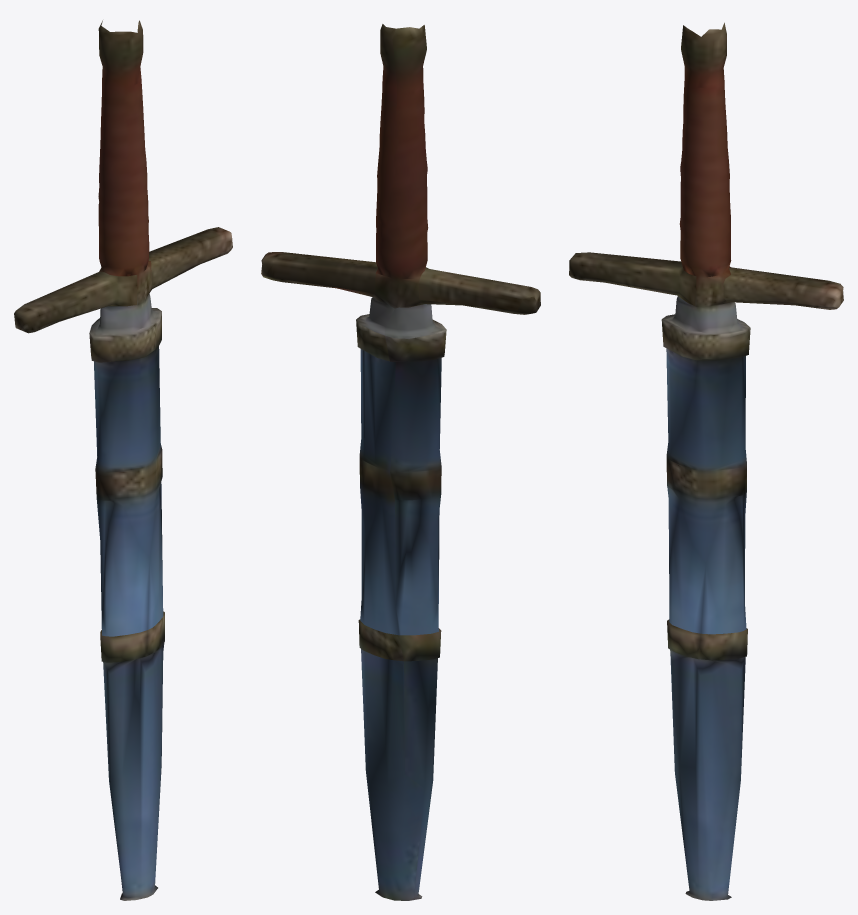
File: Shortsword_Sheathed.glb
3 renders of one model, left to right at view 1: azimuth 30°, elevation 25°; view 2: azimuth 150°, elevation 25°; view 3: azimuth 330°, elevation 25°, orthographic.
Parts seen in each view (by area): view 1: Elf Female Crossbow Ranger.004; view 2: Elf Female Crossbow Ranger.004; view 3: Elf Female Crossbow Ranger.004.
Boxes of the visible parts, x1,y1,x2,y2 form: Elf Female Crossbow Ranger.004: (14,20,232,900); Elf Female Crossbow Ranger.004: (261,24,540,900); Elf Female Crossbow Ranger.004: (569,22,843,900).
Bounding box in the file's own units: 0.5084 × 1.74 × 0.1534.
1 material, 1 textured.
